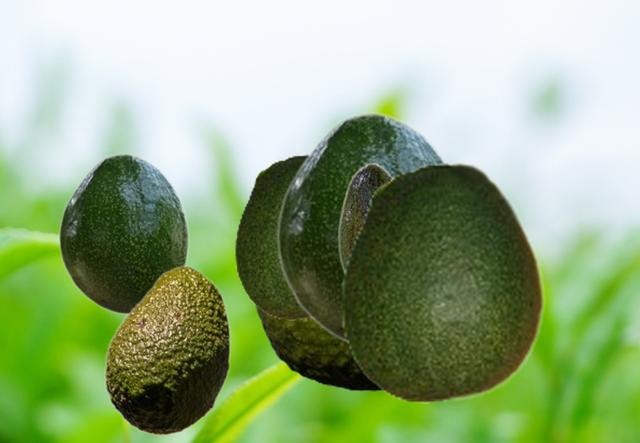avocado: (340, 161, 544, 402), (276, 112, 448, 346), (104, 265, 229, 435), (58, 153, 188, 314), (234, 153, 309, 319), (252, 305, 380, 390), (338, 162, 392, 271)
